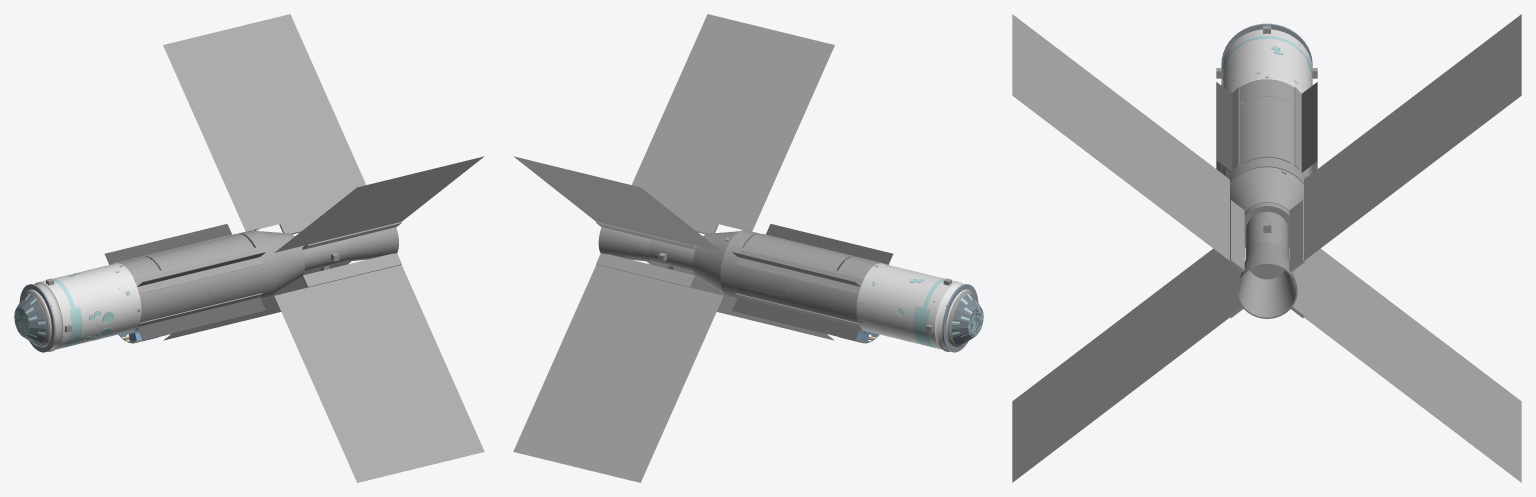
The model's file is wayfarer_bay_fullship_88ce19fc_metric_hard_closed.glb.
The picture shows the model from 3 angles, left to right: view 1: azimuth 30°, elevation 25°; view 2: azimuth 150°, elevation 25°; view 3: azimuth 270°, elevation 25°; orthographic projection. The views are drawn at different scales.
Visible parts, largest first — view 1: dry:hotfin_220:folded_envelope, dry:hotfin_40:folded_envelope, dry:hotfin_140:folded_envelope, dry:armor, dry:skin_midship, dry:strake_220:extended_pleat_00, dry:strake_140:stowed_stack, dry:strake_40:extended_pleat_00, dry:thrust_cone, dry:skin_service, dry:door_port, dry:hotfin_root_220:root (+7 smaller); view 2: dry:hotfin_320:folded_envelope, dry:hotfin_140:folded_envelope, dry:hotfin_40:folded_envelope, dry:armor, dry:skin_midship, dry:strake_320:extended_pleat_00, dry:strake_40:stowed_stack, dry:strake_140:extended_pleat_00, dry:skin_service, dry:thrust_cone, dry:door_starboard, dry:hotfin_root_320:root (+7 smaller); view 3: dry:hotfin_40:folded_envelope, dry:hotfin_140:folded_envelope, dry:hotfin_220:folded_envelope, dry:hotfin_320:folded_envelope, dry:armor, dry:nozzle, dry:thrust_cone, dry:reactor, dry:door_port, dry:door_starboard, dry:strake_40:extended_pleat_00, dry:strake_140:extended_pleat_00 (+9 smaller).
Boxes of the visible parts, x1,y1,x2,y2 form: dry:hotfin_220:folded_envelope: (274,264,484,482); dry:hotfin_40:folded_envelope: (163,14,365,231); dry:hotfin_140:folded_envelope: (274,156,484,252); dry:armor: (23,263,141,350); dry:skin_midship: (160,247,263,316); dry:strake_220:extended_pleat_00: (137,297,265,340); dry:strake_140:stowed_stack: (134,249,262,293); dry:strake_40:extended_pleat_00: (104,224,231,264); dry:thrust_cone: (258,231,304,293); dry:skin_service: (117,256,168,330); dry:door_port: (152,236,253,270); dry:hotfin_root_220:root: (302,253,401,287); dry:hotfin_320:folded_envelope: (513,264,723,482); dry:hotfin_140:folded_envelope: (632,14,834,231); dry:hotfin_40:folded_envelope: (513,156,723,252); dry:armor: (856,263,974,350); dry:skin_midship: (734,247,837,316); dry:strake_320:extended_pleat_00: (732,297,860,340); dry:strake_40:stowed_stack: (735,249,863,293); dry:strake_140:extended_pleat_00: (766,224,893,264); dry:skin_service: (829,256,880,330); dry:thrust_cone: (693,231,739,293); dry:door_starboard: (744,236,845,270); dry:hotfin_root_320:root: (596,253,695,287); dry:hotfin_40:folded_envelope: (1304,14,1521,260); dry:hotfin_140:folded_envelope: (1012,14,1229,260); dry:hotfin_220:folded_envelope: (1012,248,1229,482); dry:hotfin_320:folded_envelope: (1304,248,1521,482); dry:armor: (1221,29,1312,93); dry:nozzle: (1237,242,1297,318); dry:thrust_cone: (1230,167,1303,247); dry:reactor: (1245,211,1288,279); dry:door_port: (1242,97,1266,163); dry:door_starboard: (1267,97,1291,163); dry:strake_40:extended_pleat_00: (1301,82,1317,172); dry:strake_140:extended_pleat_00: (1216,82,1232,172).
Size of the model in its own units: 54.5 by 42.11 by 50.18.
